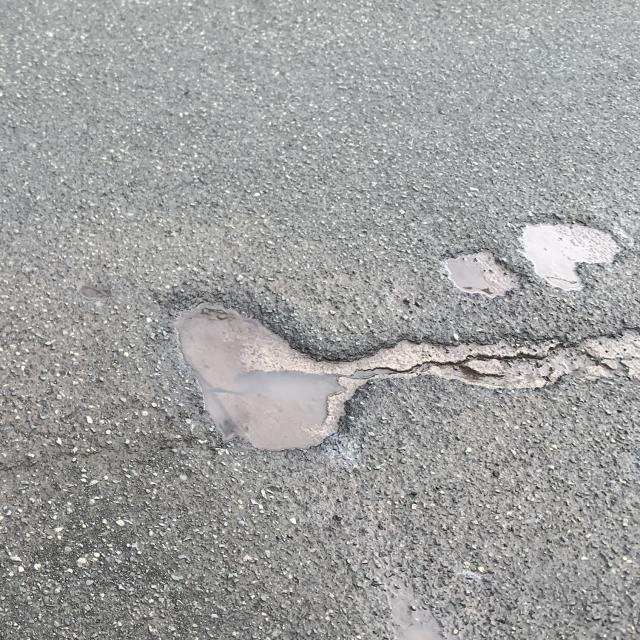pothole: (130, 183, 640, 472)
